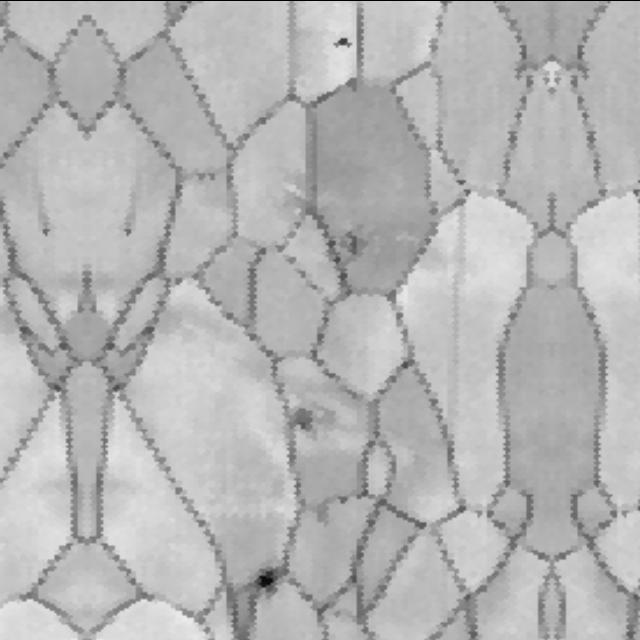good_void: (324, 226, 375, 270), (252, 543, 287, 602), (289, 399, 340, 437), (310, 492, 336, 527), (121, 210, 140, 238), (35, 210, 54, 238), (332, 33, 356, 54)
